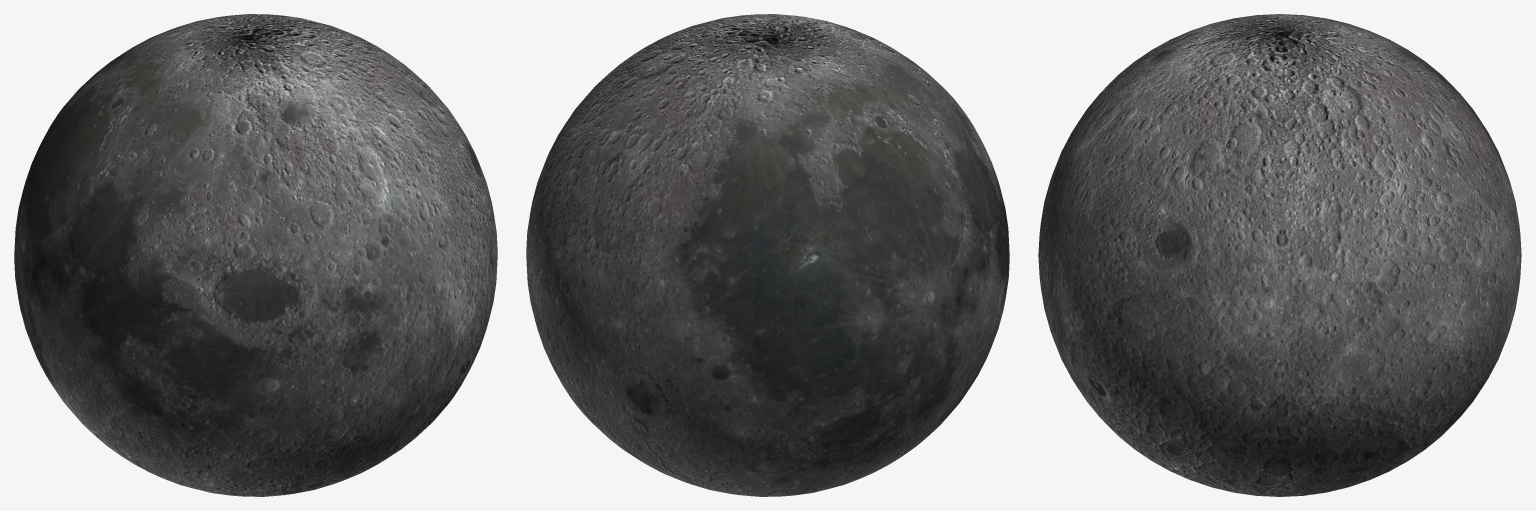
The model's file is moon.glb.
The picture shows the model from 3 angles, left to right: view 1: azimuth 30°, elevation 25°; view 2: azimuth 150°, elevation 25°; view 3: azimuth 270°, elevation 25°; orthographic projection.
Parts seen in each view (by area): view 1: Cube.008; view 2: Cube.008; view 3: Cube.008.
Boxes of the visible parts, <box> form: Cube.008: <box>14,14,497,496</box>; Cube.008: <box>526,14,1009,496</box>; Cube.008: <box>1038,14,1521,496</box>.
Size of the model in its own units: 1000 by 999 by 1000.
1 material, 1 textured.
